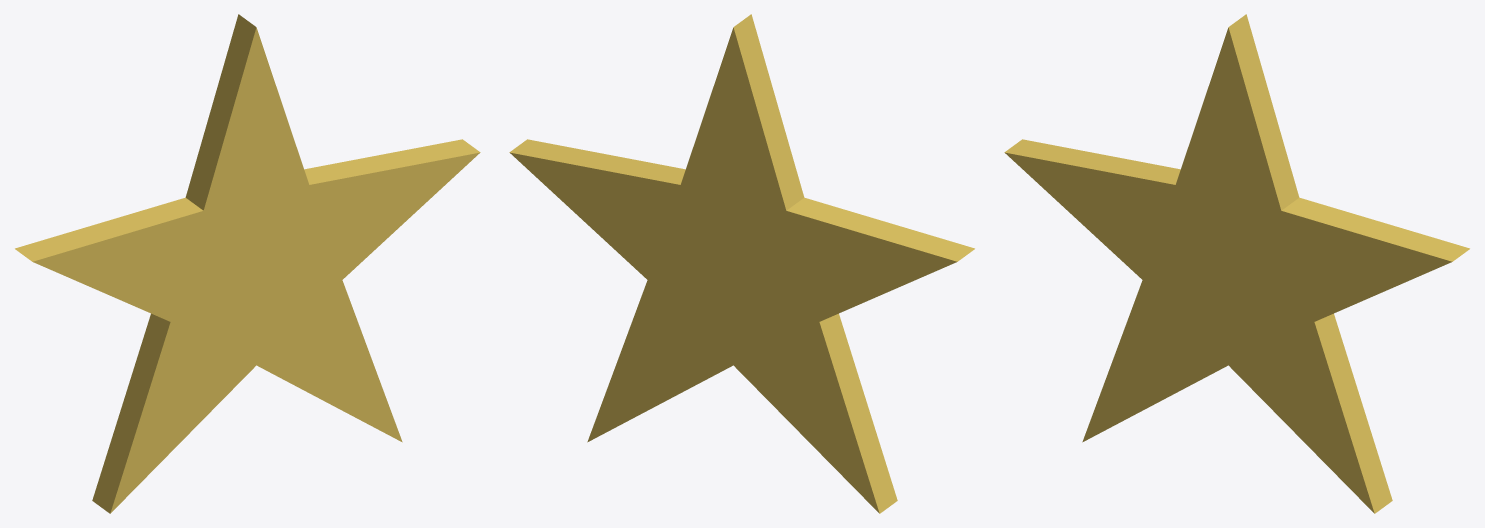
File: FB_DizzyStar_Prop.fbx
3 views of the same model, side by side, from view 1: azimuth 30°, elevation 25°; view 2: azimuth 150°, elevation 25°; view 3: azimuth 330°, elevation 25° (orthographic).
Visible parts, largest first — view 1: star; view 2: star; view 3: star.
Part boxes in pixels (x1,y1,x2,y2): star: [15, 14, 480, 513]; star: [509, 14, 974, 513]; star: [1004, 14, 1469, 513].
Size of the model in its own units: 20.74 by 19.94 by 1.44.
